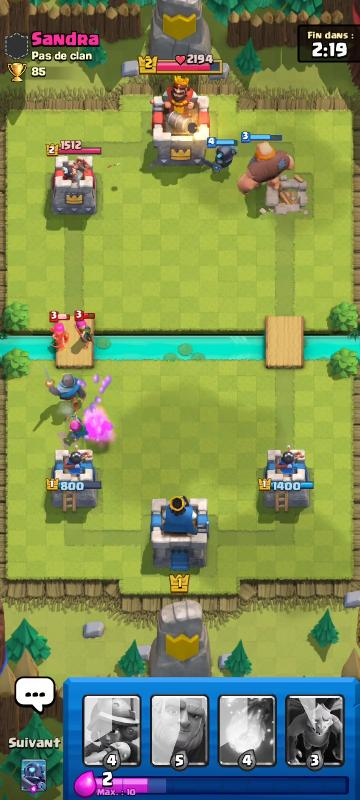archere: (63, 416, 91, 444), (74, 314, 95, 351), (49, 320, 70, 353)
chevalier: (48, 370, 88, 409)
geant: (241, 138, 301, 196)
mini_PEKKA: (204, 141, 238, 177)
